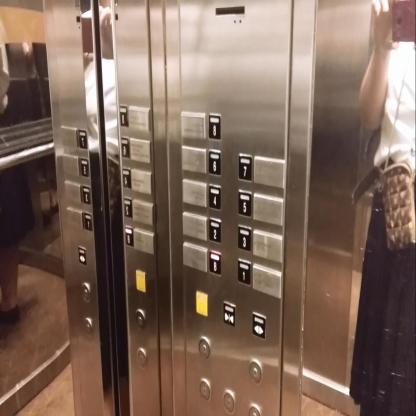1: (237, 257, 251, 286)
2: (209, 217, 221, 244)
3: (238, 224, 251, 252)
4: (209, 183, 222, 211)
5: (237, 188, 252, 218)
6: (208, 148, 221, 176)
7: (237, 152, 252, 182)
8: (208, 113, 221, 140), (119, 103, 128, 127)
B: (209, 249, 221, 277)
alarm: (196, 290, 208, 316), (136, 269, 146, 292)
close: (223, 300, 236, 327)
keyhole: (222, 388, 236, 415), (248, 358, 262, 383), (199, 377, 211, 401), (198, 336, 211, 358), (135, 308, 146, 328), (83, 316, 93, 337), (137, 348, 147, 368), (81, 282, 91, 302)
open: (252, 310, 266, 340), (78, 246, 86, 264)
unknown: (120, 135, 130, 159), (124, 225, 134, 246), (122, 166, 131, 188), (123, 196, 132, 218), (78, 127, 87, 149), (80, 156, 89, 177), (83, 210, 92, 231), (81, 184, 90, 204)
